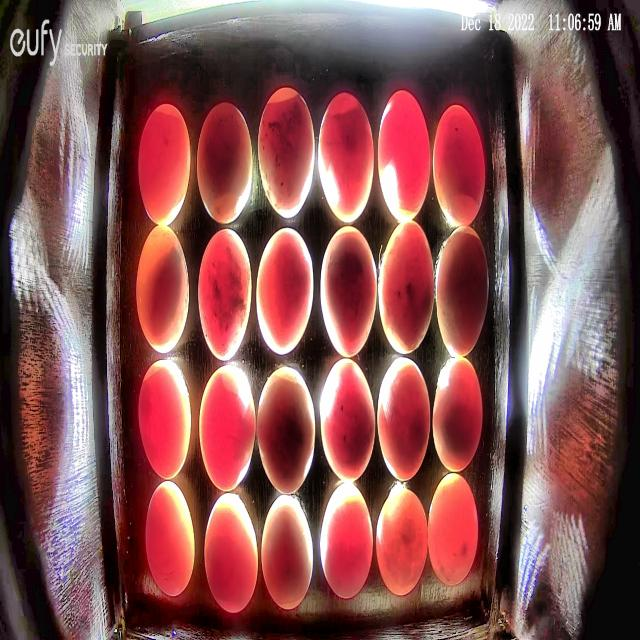DE: (320, 480, 374, 602), (262, 494, 314, 612), (427, 471, 479, 586), (375, 487, 428, 599)
FE: (318, 224, 377, 358), (257, 85, 315, 221), (318, 89, 376, 224), (255, 224, 314, 356), (378, 218, 434, 356), (198, 361, 256, 492), (195, 99, 254, 226), (197, 227, 252, 362), (258, 366, 316, 493), (378, 88, 431, 224), (377, 353, 432, 483), (135, 224, 189, 354), (320, 359, 378, 480), (204, 492, 260, 616), (437, 224, 488, 360), (138, 357, 193, 481), (433, 101, 485, 230), (137, 102, 191, 226), (143, 481, 194, 598), (432, 355, 483, 472)
